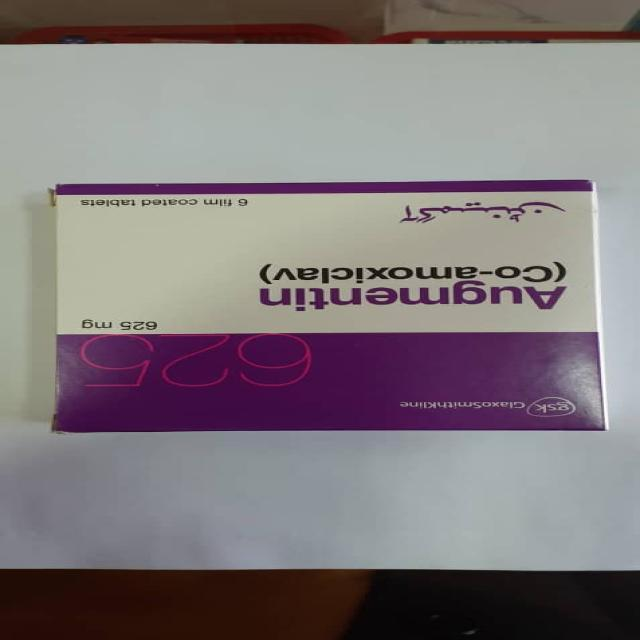drug-name: (258, 284, 567, 311)
